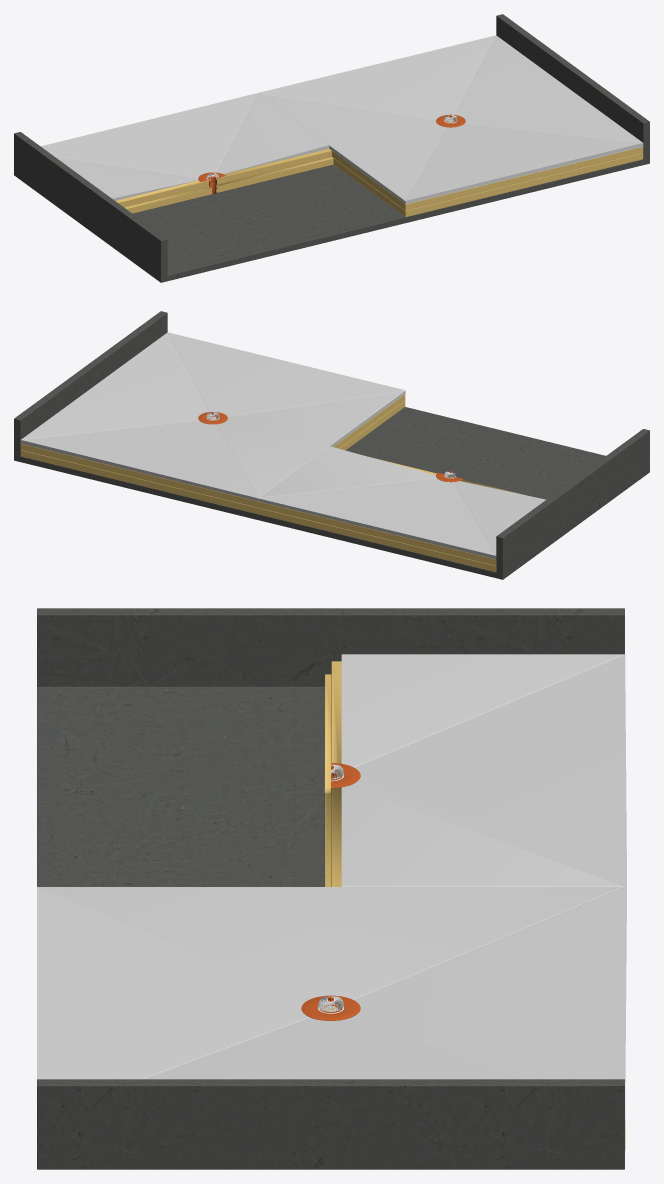
Rendered from plocha_spadovana_strecha_atika.glb.
3 views of the same model, one above another, from view 1: azimuth 30°, elevation 25°; view 2: azimuth 150°, elevation 25°; view 3: azimuth 270°, elevation 25° (orthographic). The views are drawn at different scales.
Visible parts, largest first — view 1: bool_cube.001, beton, bool vrechní vrstva polyše, bool_cube.006; view 2: bool_cube.001, beton, bool vrechní vrstva polyše, bool_cube.006; view 3: bool_cube.001, beton, bool vrechní vrstva polyše, bool_cube.006, topwet_vpust.002.
Boxes of the visible parts, x1,y1,x2,y2 form: bool_cube.001: (41, 35, 643, 204); beton: (14, 14, 649, 282); bool vrechní vrstva polyše: (115, 120, 643, 210); bool_cube.006: (124, 153, 643, 217); bool_cube.001: (20, 332, 545, 559); beton: (14, 311, 649, 579); bool vrechní vrstva polyše: (20, 394, 522, 565); bool_cube.006: (20, 400, 496, 572); bool_cube.001: (37, 654, 626, 1125); beton: (37, 608, 624, 1169); bool vrechní vrstva polyše: (325, 661, 625, 1137); bool_cube.006: (324, 674, 625, 1150); topwet_vpust.002: (301, 995, 360, 1020).
Size of the model in its own units: 15.75 by 1.4 by 8.23.
Materials: 5 (2 with a texture image).
